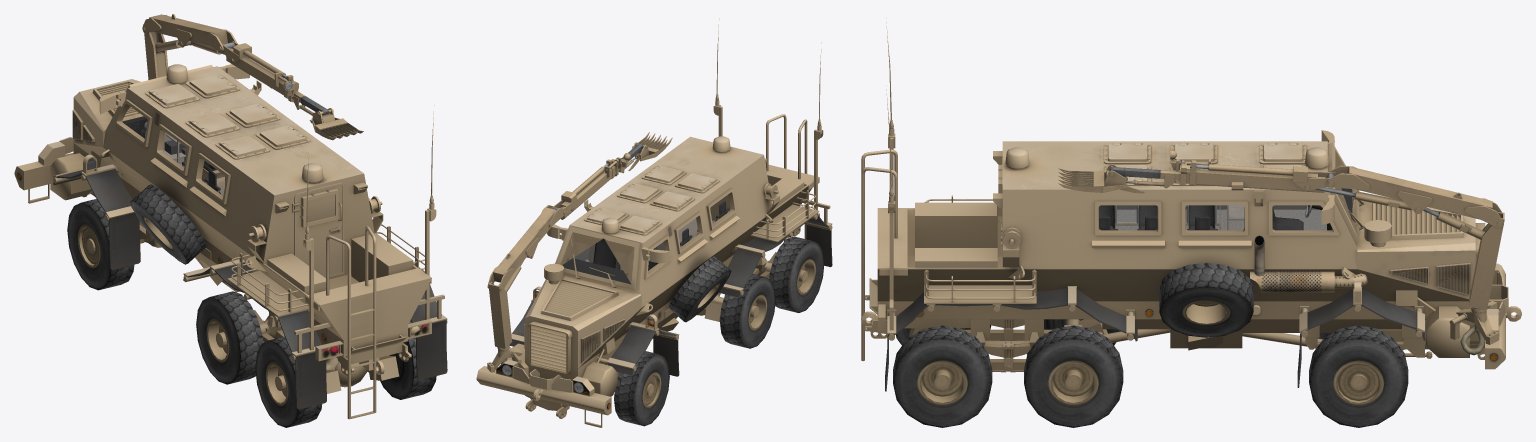
File: mrap_buffalo_veh.fbx
3 renders of one model, left to right at view 1: azimuth 30°, elevation 25°; view 2: azimuth 150°, elevation 25°; view 3: azimuth 270°, elevation 25°, orthographic. The views are drawn at different scales.
Visible parts, largest first — view 1: mrap_buffalo_veh_1, mrap_buffalo_Interior_1, Driver_Wheel_Rear01_1, Door_Rear_1, Driver_Wheel_Front_1, Driver_Wheel_Rear02_1, Passenger_Wheel_Rear02_1; view 2: mrap_buffalo_veh_1, mrap_buffalo_Interior_1, Driver_Wheel_Rear02_1, Driver_Wheel_Front_1, Driver_Wheel_Rear01_1; view 3: mrap_buffalo_veh_1, mrap_buffalo_Interior_1, Passenger_Wheel_Front_1, Passenger_Wheel_Rear02_1, Passenger_Wheel_Rear01_1.
Part boxes in pixels (x1,y1,x2,y2): mrap_buffalo_veh_1: [14, 64, 447, 419]; mrap_buffalo_Interior_1: [122, 14, 363, 254]; Driver_Wheel_Rear01_1: [196, 291, 263, 384]; Door_Rear_1: [293, 182, 344, 277]; Driver_Wheel_Front_1: [67, 199, 134, 290]; Driver_Wheel_Rear02_1: [255, 336, 322, 427]; Passenger_Wheel_Rear02_1: [380, 320, 436, 399]; mrap_buffalo_veh_1: [476, 18, 832, 427]; mrap_buffalo_Interior_1: [487, 132, 729, 376]; Driver_Wheel_Rear02_1: [769, 236, 824, 312]; Driver_Wheel_Front_1: [614, 351, 669, 426]; Driver_Wheel_Rear01_1: [720, 274, 775, 348]; mrap_buffalo_veh_1: [861, 18, 1521, 391]; mrap_buffalo_Interior_1: [1057, 150, 1504, 355]; Passenger_Wheel_Front_1: [1309, 325, 1408, 427]; Passenger_Wheel_Rear02_1: [893, 325, 992, 427]; Passenger_Wheel_Rear01_1: [1024, 325, 1123, 427].
Size of the model in its own units: 2.95 by 4.97 by 8.67.
